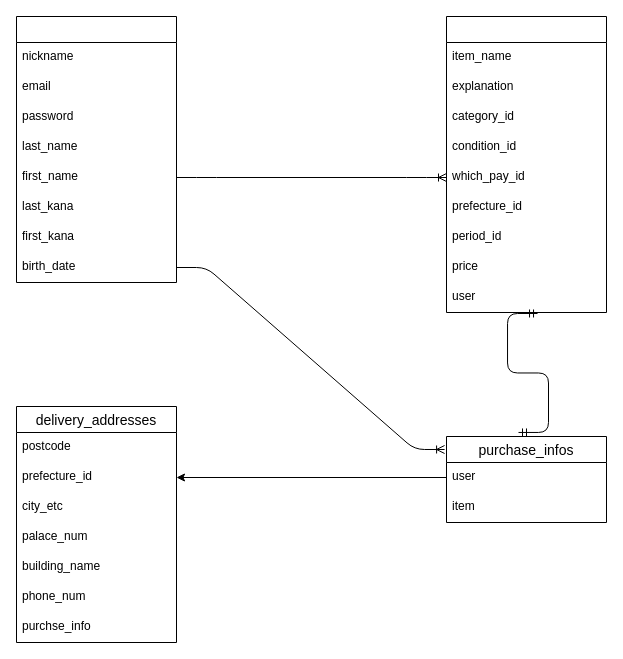
Some shapes in this 623 by 659 pixel diagram are drawn without their labels. Each missing label, with the box of its shape:
items: (446, 16, 606, 312)
users: (16, 16, 176, 282)
